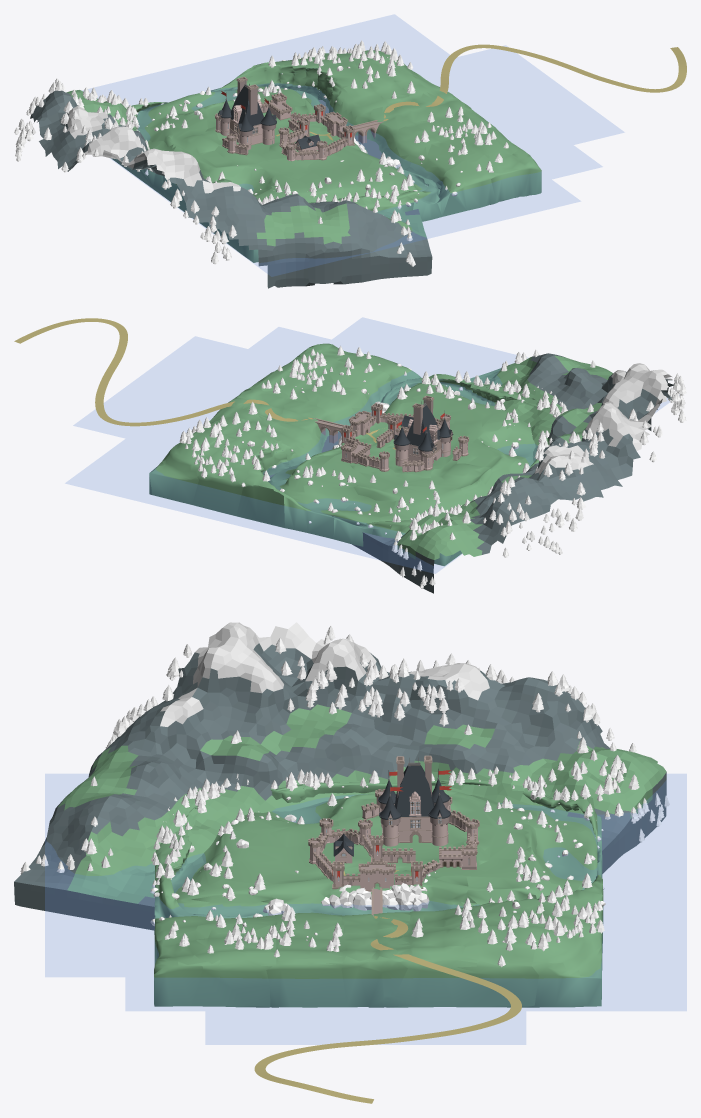
Rendered from level.glb.
3 renders of one model, top to bottom at view 1: azimuth 30°, elevation 25°; view 2: azimuth 150°, elevation 25°; view 3: azimuth 270°, elevation 25°, orthographic. The views are drawn at different scales.
Visible parts, largest first — view 1: BACKDROP, CHUNK_-014_-002, CHUNK_-011_-005, CHUNK_-010_-005, CHUNK_-011_-001, CHUNK_-011_+000, CHUNK_-012_+001, CHUNK_-011_-004, CHUNK_-015_-002, CHUNK_-011_-002, CHUNK_-011_-003, CHUNK_-013_-003 (+29 smaller); view 2: BACKDROP, CHUNK_-011_+001, CHUNK_-014_-001, CHUNK_-010_+001, CHUNK_-013_+001, CHUNK_-014_+001, CHUNK_-013_+000, CHUNK_-011_+000, CHUNK_-014_+000, CHUNK_-012_+002, CHUNK_-011_-004, CHUNK_-011_-003 (+36 smaller); view 3: BACKDROP, CHUNK_-014_-001, CHUNK_-009_-003, CHUNK_-009_-001, CHUNK_-009_-004, CHUNK_-012_-002, CHUNK_-010_+000, CHUNK_-010_+001, CHUNK_-009_-002, CHUNK_-009_+000, CHUNK_-012_-001, CHUNK_-014_-002 (+44 smaller).
Part boxes in pixels (box(x1,y1,x2,y2)): BACKDROP: box(30, 14, 623, 288); CHUNK_-014_-002: box(237, 84, 296, 163); CHUNK_-011_-005: box(437, 160, 496, 216); CHUNK_-010_-005: box(476, 148, 540, 202); CHUNK_-011_-001: box(336, 73, 407, 122); CHUNK_-011_+000: box(314, 55, 378, 109); CHUNK_-012_+001: box(238, 54, 307, 91); CHUNK_-011_-004: box(410, 143, 483, 190); CHUNK_-015_-002: box(191, 133, 255, 182); CHUNK_-011_-002: box(359, 102, 434, 148); CHUNK_-011_-003: box(383, 125, 455, 161); CHUNK_-013_-003: box(301, 140, 367, 180); BACKDROP: box(65, 317, 673, 593); CHUNK_-011_+001: box(192, 445, 262, 515); CHUNK_-014_-001: box(383, 397, 452, 478); CHUNK_-010_+001: box(149, 431, 222, 504); CHUNK_-013_+001: box(283, 478, 357, 539); CHUNK_-014_+001: box(331, 495, 396, 546); CHUNK_-013_+000: box(305, 445, 379, 487); CHUNK_-011_+000: box(223, 420, 290, 475); CHUNK_-014_+000: box(353, 452, 436, 501); CHUNK_-012_+002: box(236, 483, 284, 527); CHUNK_-011_-004: box(328, 357, 391, 404); CHUNK_-011_-003: box(304, 375, 367, 424); BACKDROP: box(14, 622, 686, 1044); CHUNK_-014_-001: box(380, 755, 468, 848); CHUNK_-009_-003: box(261, 958, 346, 1007); CHUNK_-009_-001: box(390, 955, 490, 1007); CHUNK_-009_-004: box(191, 959, 275, 1007); CHUNK_-012_-002: box(329, 861, 403, 915); CHUNK_-010_+000: box(455, 910, 543, 965); CHUNK_-010_+001: box(529, 913, 601, 999); CHUNK_-009_-002: box(326, 956, 413, 1007); CHUNK_-009_+000: box(454, 955, 538, 1007); CHUNK_-012_-001: box(399, 861, 484, 912); CHUNK_-014_-002: box(331, 756, 407, 850).
Bounding box in the file's own units: 518 × 91.72 × 361.
